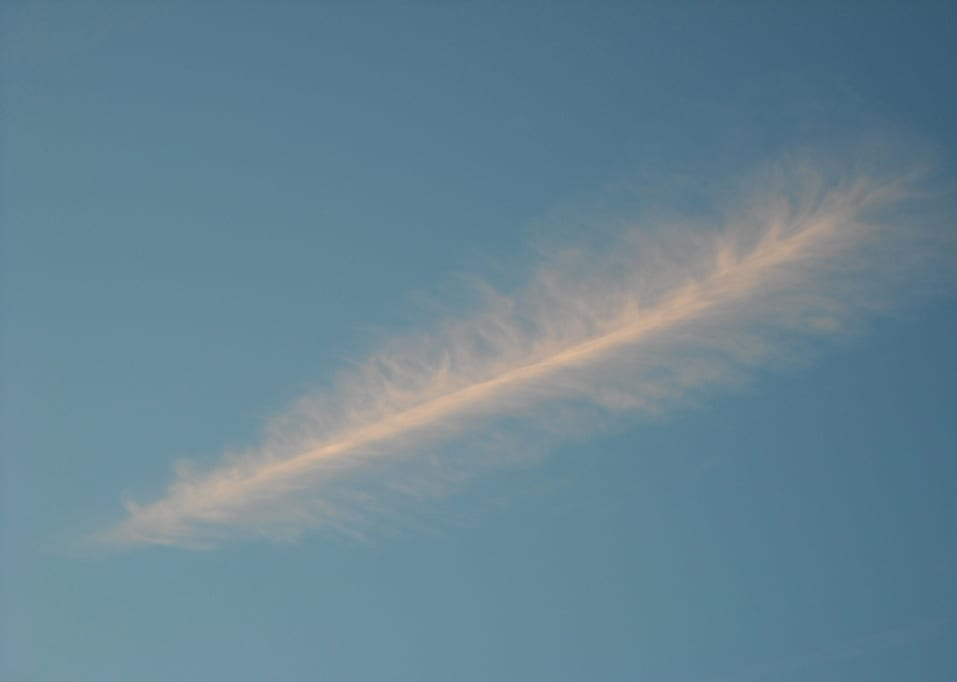Cirrus: (79, 92, 927, 578)
